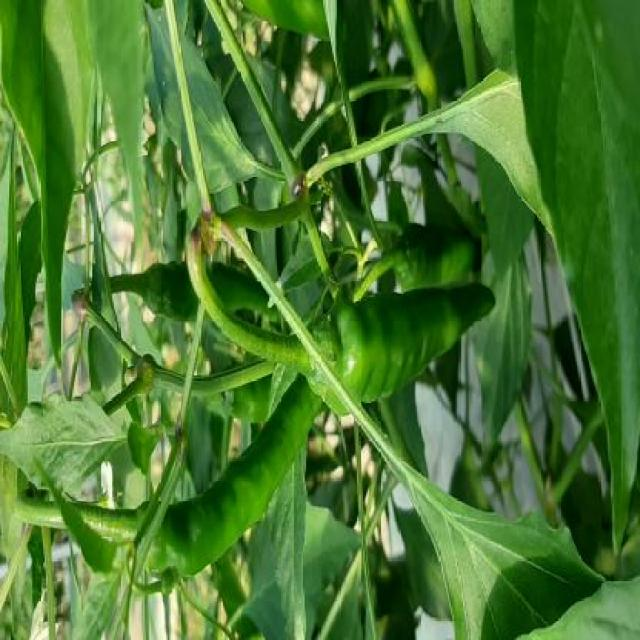green chilli: (260, 283, 497, 415)
